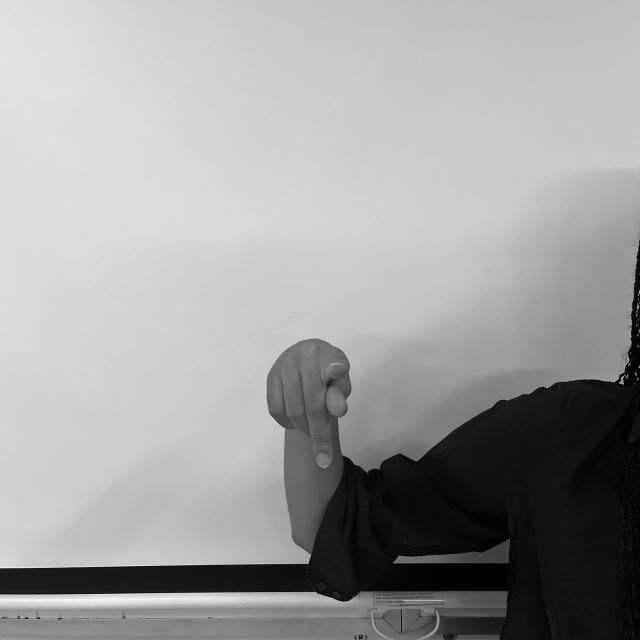Letra P: (263, 335, 355, 470)
